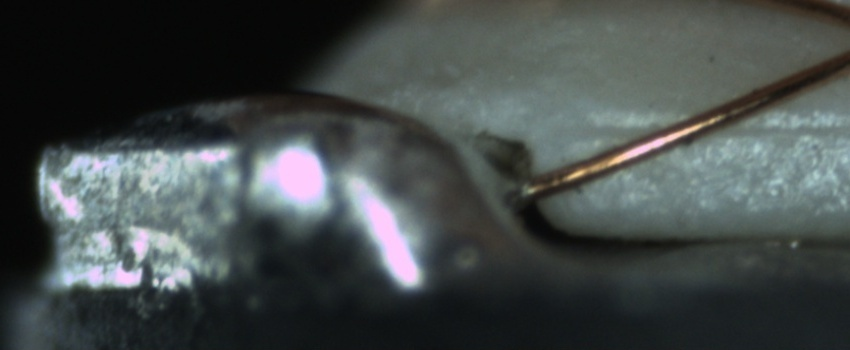DL: (568, 99, 844, 159)
